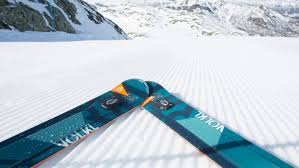skis: (1, 78, 293, 168)
